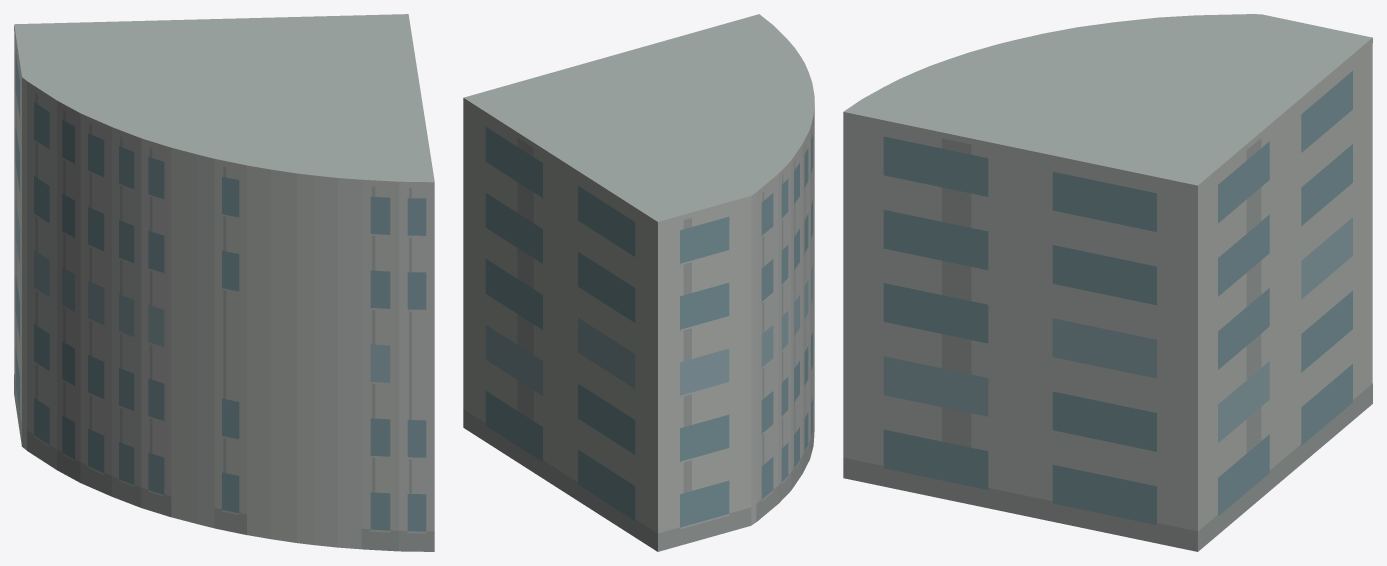
The model's file is survey-upis-32884400.glb.
The picture shows the model from 3 angles, left to right: view 1: azimuth 30°, elevation 25°; view 2: azimuth 150°, elevation 25°; view 3: azimuth 270°, elevation 25°; orthographic projection. The views are drawn at different scales.
Visible parts, largest first — view 1: survey-upis-32884400.tmp; view 2: survey-upis-32884400.tmp; view 3: survey-upis-32884400.tmp.
Part boxes in pixels (x1,y1,x2,y2): survey-upis-32884400.tmp: (14, 14, 434, 551); survey-upis-32884400.tmp: (463, 14, 814, 551); survey-upis-32884400.tmp: (843, 14, 1372, 551).
Size of the model in its own units: 14.93 by 14.85 by 19.46.
